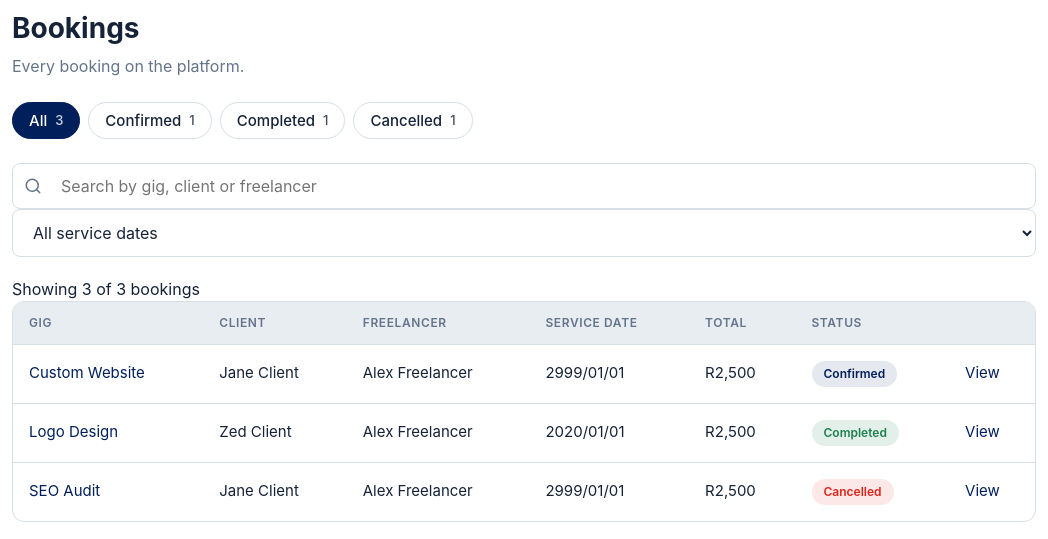
Test: Admin Bookings (27) › status tabs show counts and filter; date filter and search work
The width and height of the screenshot is (1048, 539).
Check: the text "Showing 3 of 3 bookings" is shown, box 12,279 -> 200,299
Check: the button "All 3" is shown, box 12,102 -> 80,139
Click the button "Completed 1" at coordinates (283, 120), box 220,102 -> 346,139
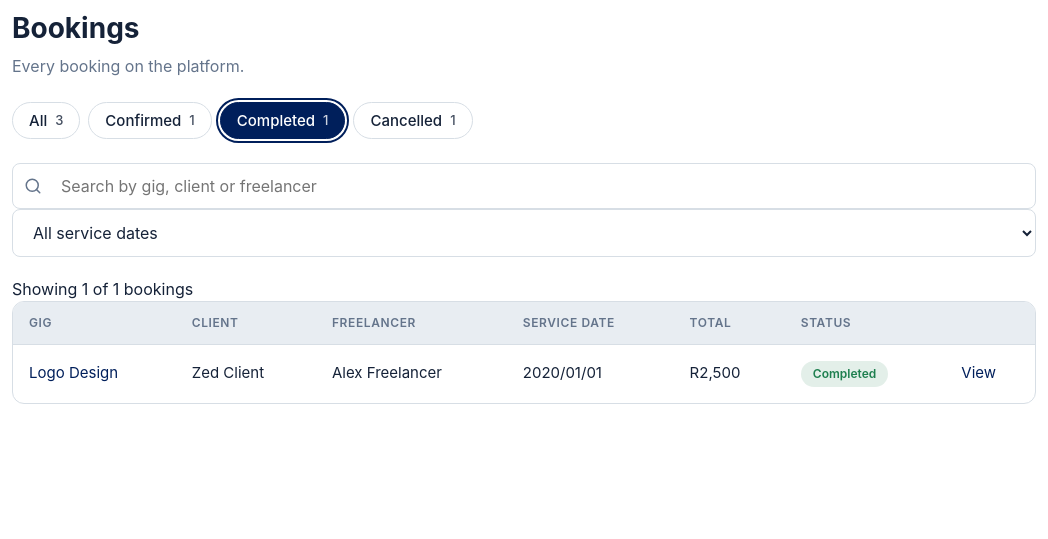
Check: the link "Logo Design" is shown, box 29,363 -> 118,382
Check: the text "Showing 1 of 1 bookings" is shown, box 12,279 -> 193,299
Click the button "All 3" at coordinates (46, 120), box 12,102 -> 80,139
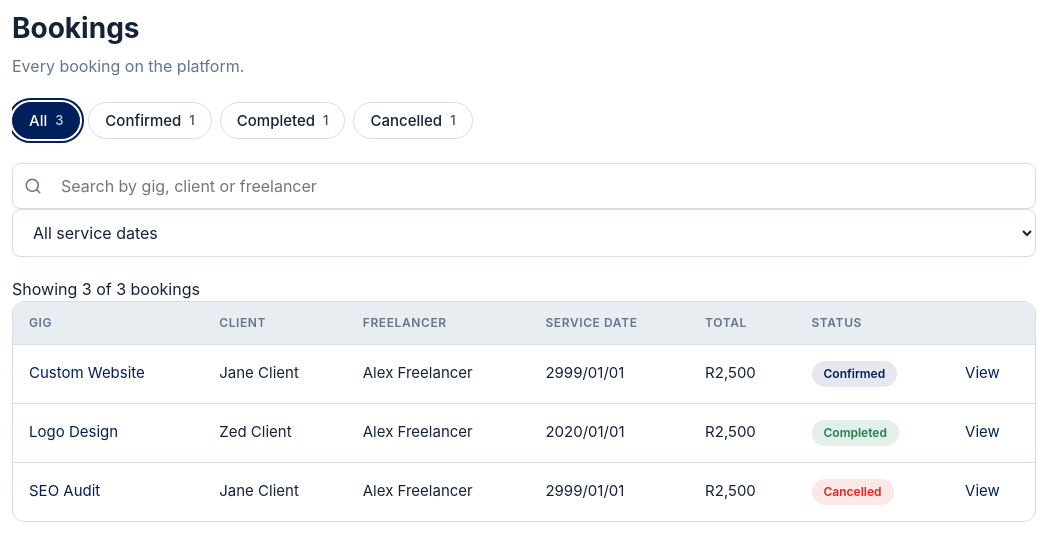
Select "Date reached" in the dropdown named "Filter by service dates" at coordinates (524, 233), box 12,209 -> 1036,257
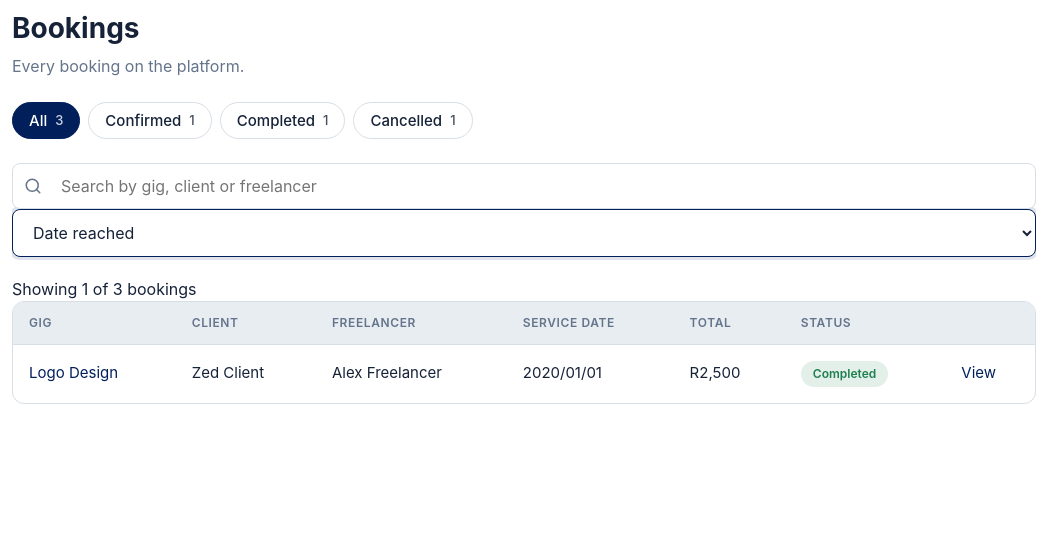
Check: the text "Showing 1 of 3 bookings" is shown, box 12,279 -> 196,299
Select "All service dates" in the dropdown named "Filter by service dates" at coordinates (524, 233), box 12,209 -> 1036,257
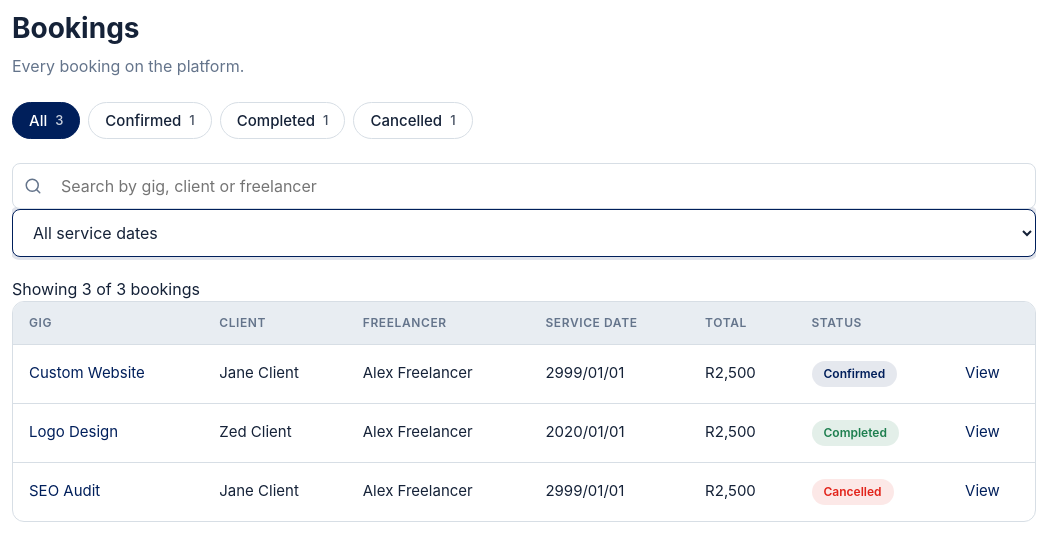
Type "zed" into the field named "Search bookings" at coordinates (524, 186), box 12,163 -> 1036,209
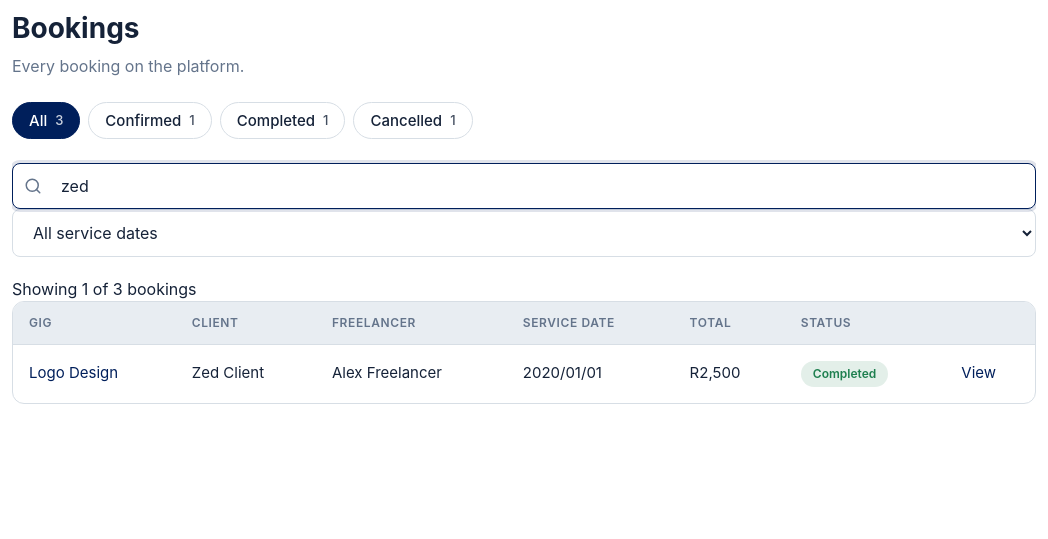
Check: the text "Showing 1 of 3 bookings" is shown, box 12,279 -> 196,299
